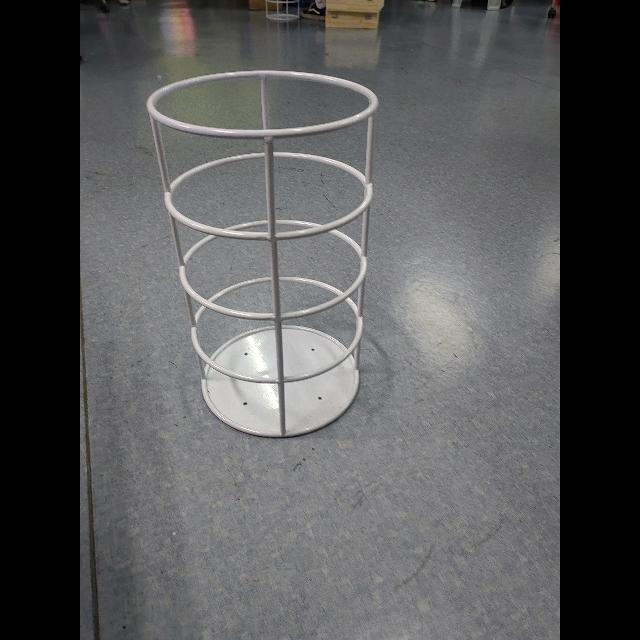S: (142, 68, 382, 442)
